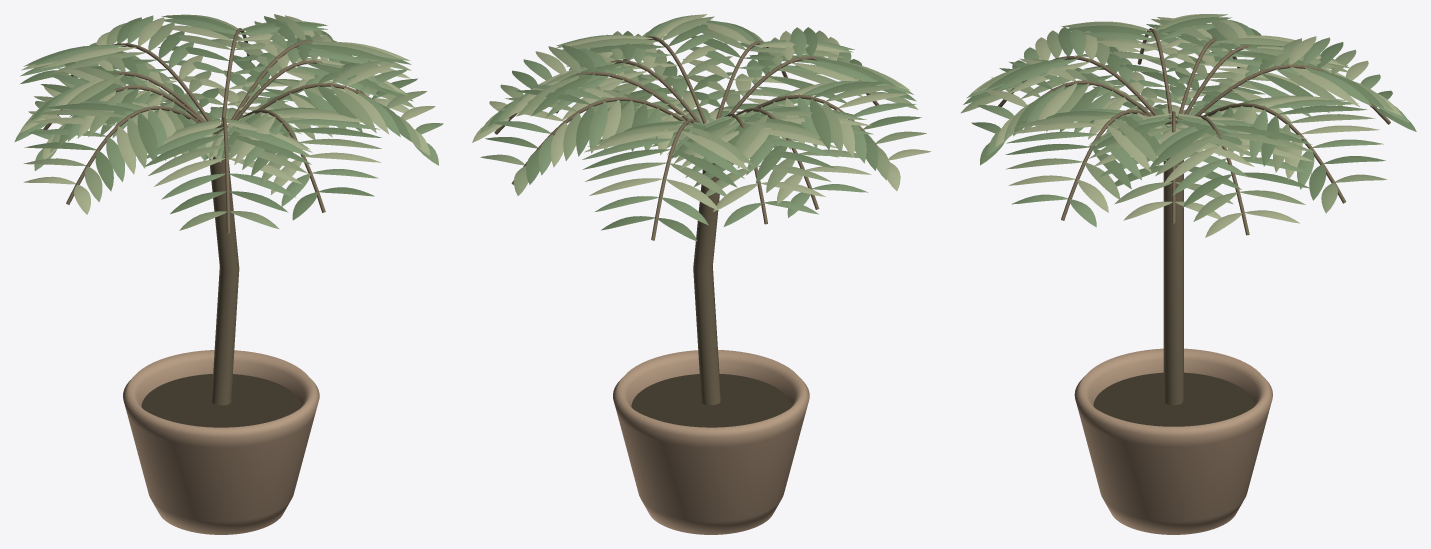
Rendered from indoor-palm.glb.
The picture shows the model from 3 angles, left to right: view 1: azimuth 30°, elevation 25°; view 2: azimuth 150°, elevation 25°; view 3: azimuth 270°, elevation 25°; orthographic projection.
Parts seen in each view (by area): view 1: Hand-thrown ceramic pot, Tapered curved leaf, Tapered curved leaf.006, Tapered curved leaf.004, Tapered curved leaf.002, Stem, Soil; view 2: Hand-thrown ceramic pot, Tapered curved leaf, Tapered curved leaf.002, Tapered curved leaf.004, Tapered curved leaf.006, Stem, Soil; view 3: Hand-thrown ceramic pot, Tapered curved leaf, Tapered curved leaf.006, Tapered curved leaf.002, Tapered curved leaf.004, Stem, Soil.
Boxes of the visible parts, bbox=[...] form: Hand-thrown ceramic pot: bbox=[123, 350, 319, 534]; Tapered curved leaf: bbox=[23, 14, 426, 230]; Tapered curved leaf.006: bbox=[20, 15, 417, 220]; Tapered curved leaf.004: bbox=[14, 15, 443, 206]; Tapered curved leaf.002: bbox=[19, 15, 435, 214]; Stem: bbox=[43, 28, 375, 405]; Soil: bbox=[141, 374, 300, 427]; Hand-thrown ceramic pot: bbox=[613, 350, 809, 534]; Tapered curved leaf: bbox=[479, 16, 926, 198]; Tapered curved leaf.002: bbox=[472, 14, 931, 211]; Tapered curved leaf.004: bbox=[494, 14, 916, 226]; Tapered curved leaf.006: bbox=[485, 22, 921, 241]; Stem: bbox=[494, 36, 889, 405]; Soil: bbox=[631, 373, 790, 427]; Hand-thrown ceramic pot: bbox=[1074, 348, 1272, 534]; Tapered curved leaf: bbox=[960, 14, 1393, 221]; Tapered curved leaf.006: bbox=[963, 17, 1416, 207]; Tapered curved leaf.002: bbox=[971, 14, 1402, 237]; Tapered curved leaf.004: bbox=[966, 20, 1409, 227]; Stem: bbox=[998, 28, 1390, 405]; Soil: bbox=[1093, 372, 1254, 426].
Size of the model in its own units: 1.45 by 1.48 by 1.43.
